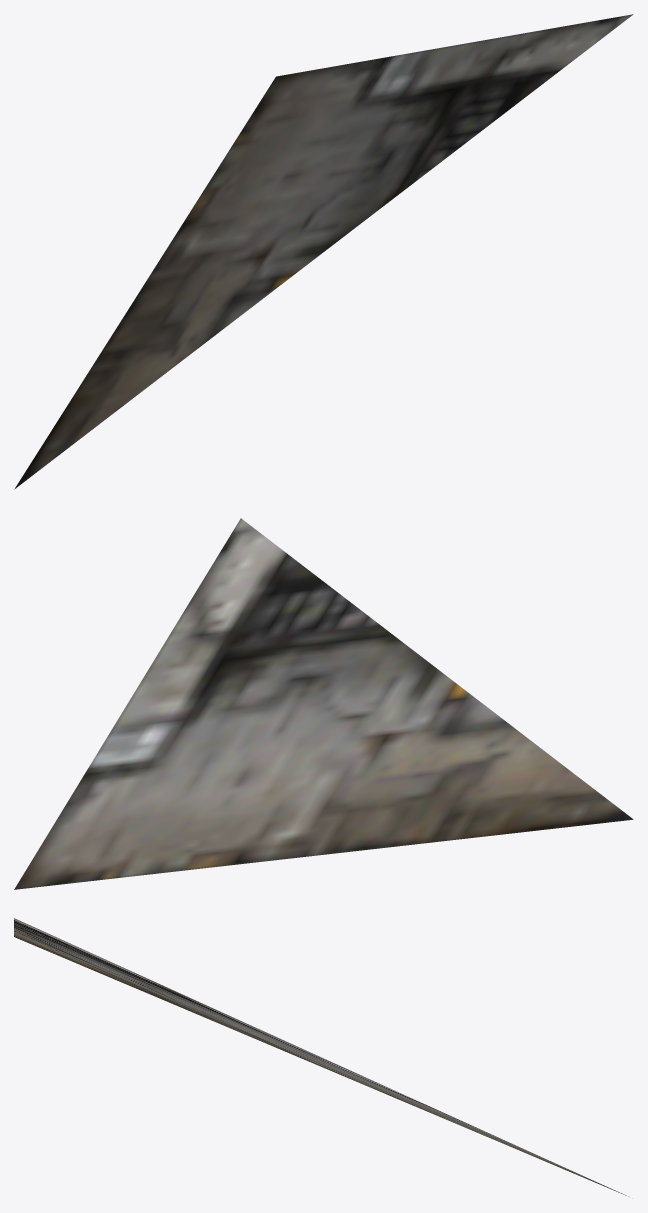
Rendered from SchluchtEck [Favellas2]_1460.glb.
3 renders of one model, top to bottom at view 1: azimuth 30°, elevation 25°; view 2: azimuth 150°, elevation 25°; view 3: azimuth 270°, elevation 25°, orthographic. The views are drawn at different scales.
Parts seen in each view (by area): view 1: pPlaneShape184; view 2: pPlaneShape184; view 3: pPlaneShape184.
Part boxes in pixels (x1,y1,x2,y2): pPlaneShape184: [14, 14, 633, 489]; pPlaneShape184: [14, 518, 633, 889]; pPlaneShape184: [14, 918, 628, 1196].
Size of the model in its own units: 2 by 1 by 2.
Materials: 1 (1 with a texture image).
